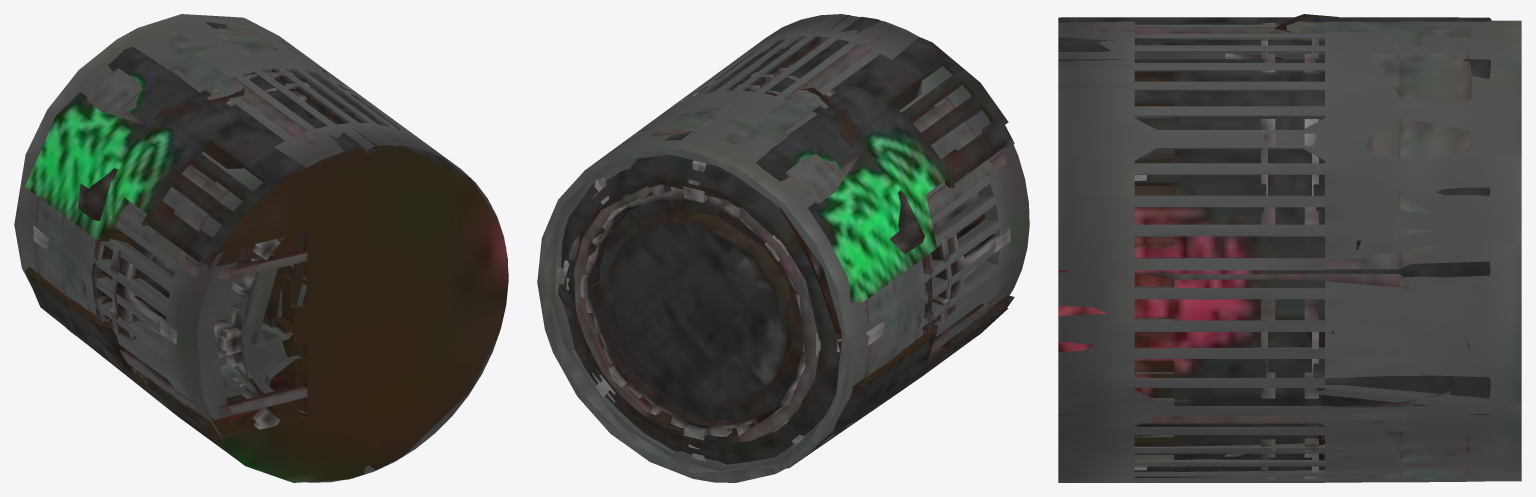
File: missile-sleeves.glb
3 renders of one model, left to right at view 1: azimuth 30°, elevation 25°; view 2: azimuth 150°, elevation 25°; view 3: azimuth 270°, elevation 25°, orthographic. The views are drawn at different scales.
Parts seen in each view (by area): view 1: surface-part-007-tech_09.006_low_mainshape_0, surface-part-013-cylinoid_04.012_low_12, surface-part-001-tech_04_low_tech_4_0, surface-part-004-tech_07.003_low_maetal_2_0, surface-part-011-tech_03.011_low_tech_3_0; view 2: surface-part-007-tech_09.006_low_mainshape_0, surface-part-013-cylinoid_04.012_low_12, surface-part-001-tech_04_low_tech_4_0, surface-part-004-tech_07.003_low_maetal_2_0, surface-part-011-tech_03.011_low_tech_3_0; view 3: surface-part-013-cylinoid_04.012_low_12, surface-part-007-tech_09.006_low_mainshape_0, surface-part-001-tech_04_low_tech_4_0, surface-part-004-tech_07.003_low_maetal_2_0, surface-part-011-tech_03.011_low_tech_3_0.
Boxes of the visible parts, x1=… form: surface-part-007-tech_09.006_low_mainshape_0: x1=25, y1=22, x2=508, y2=482; surface-part-013-cylinoid_04.012_low_12: x1=14, y1=14, x2=508, y2=482; surface-part-001-tech_04_low_tech_4_0: x1=34, y1=27, x2=327, y2=414; surface-part-004-tech_07.003_low_maetal_2_0: x1=33, y1=70, x2=365, y2=429; surface-part-011-tech_03.011_low_tech_3_0: x1=78, y1=83, x2=280, y2=376; surface-part-007-tech_09.006_low_mainshape_0: x1=558, y1=15, x2=1014, y2=468; surface-part-013-cylinoid_04.012_low_12: x1=537, y1=14, x2=1029, y2=482; surface-part-001-tech_04_low_tech_4_0: x1=569, y1=33, x2=1006, y2=442; surface-part-004-tech_07.003_low_maetal_2_0: x1=557, y1=65, x2=1010, y2=461; surface-part-011-tech_03.011_low_tech_3_0: x1=779, y1=87, x2=938, y2=355; surface-part-013-cylinoid_04.012_low_12: x1=1058, y1=20, x2=1521, y2=482; surface-part-007-tech_09.006_low_mainshape_0: x1=1058, y1=17, x2=1491, y2=477; surface-part-001-tech_04_low_tech_4_0: x1=1089, y1=21, x2=1472, y2=482; surface-part-004-tech_07.003_low_maetal_2_0: x1=1134, y1=23, x2=1324, y2=479; surface-part-011-tech_03.011_low_tech_3_0: x1=1274, y1=14, x2=1360, y2=476.
Size of the model in its own units: 1 by 1 by 1.
Materials: 5 (5 with a texture image).
